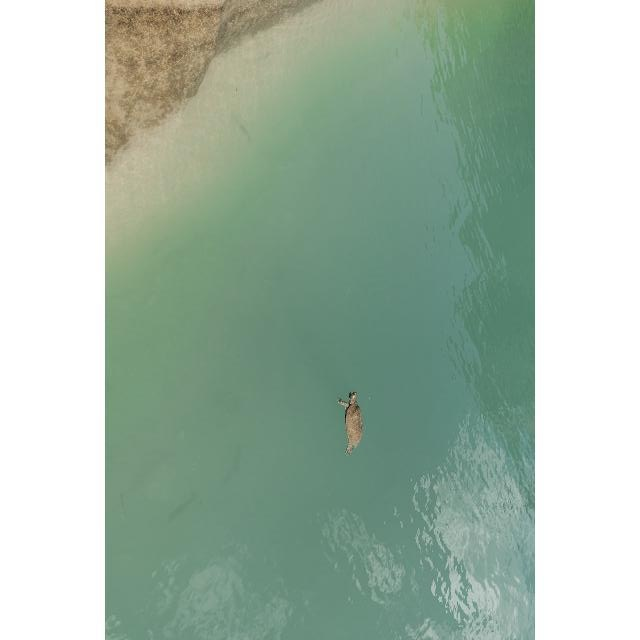turtle: (336, 391, 364, 455)
